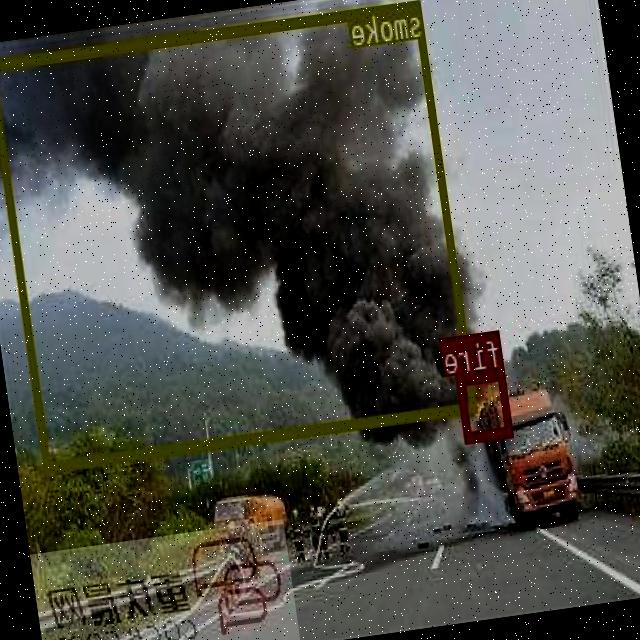fire: (457, 367, 515, 440)
smoke: (0, 0, 479, 469)
